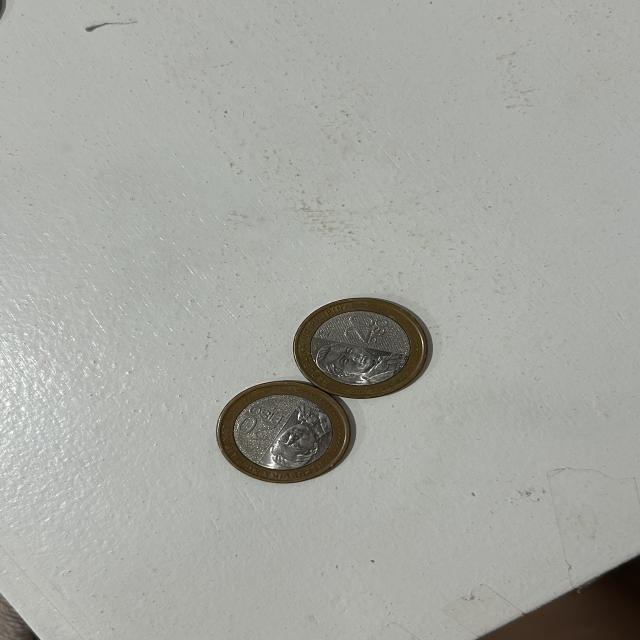20_New_Front: (236, 398, 284, 444), (345, 312, 391, 345)
